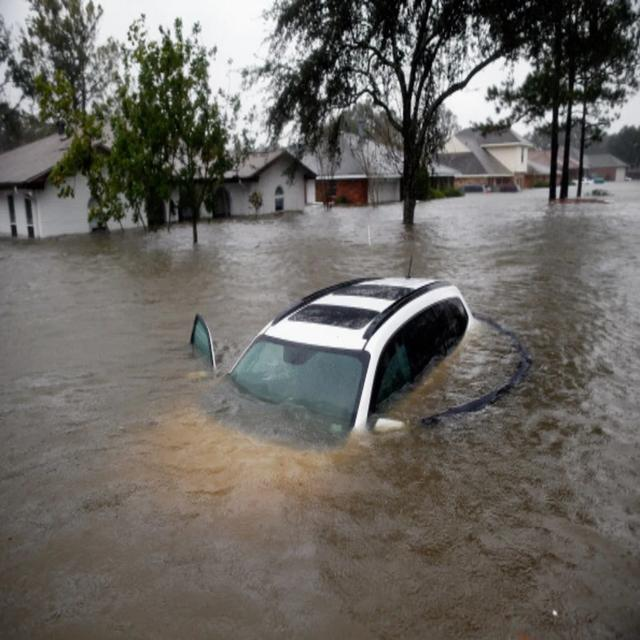Car-RiskLevel3: (184, 261, 485, 463)
